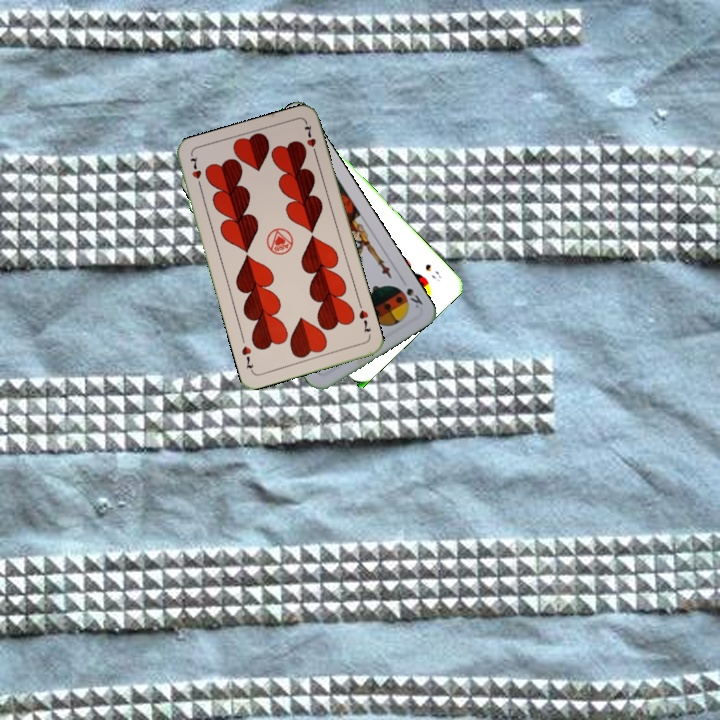H7: (186, 153, 205, 192), (355, 306, 374, 335)
S8: (421, 260, 444, 284)
SK: (402, 284, 425, 311)
